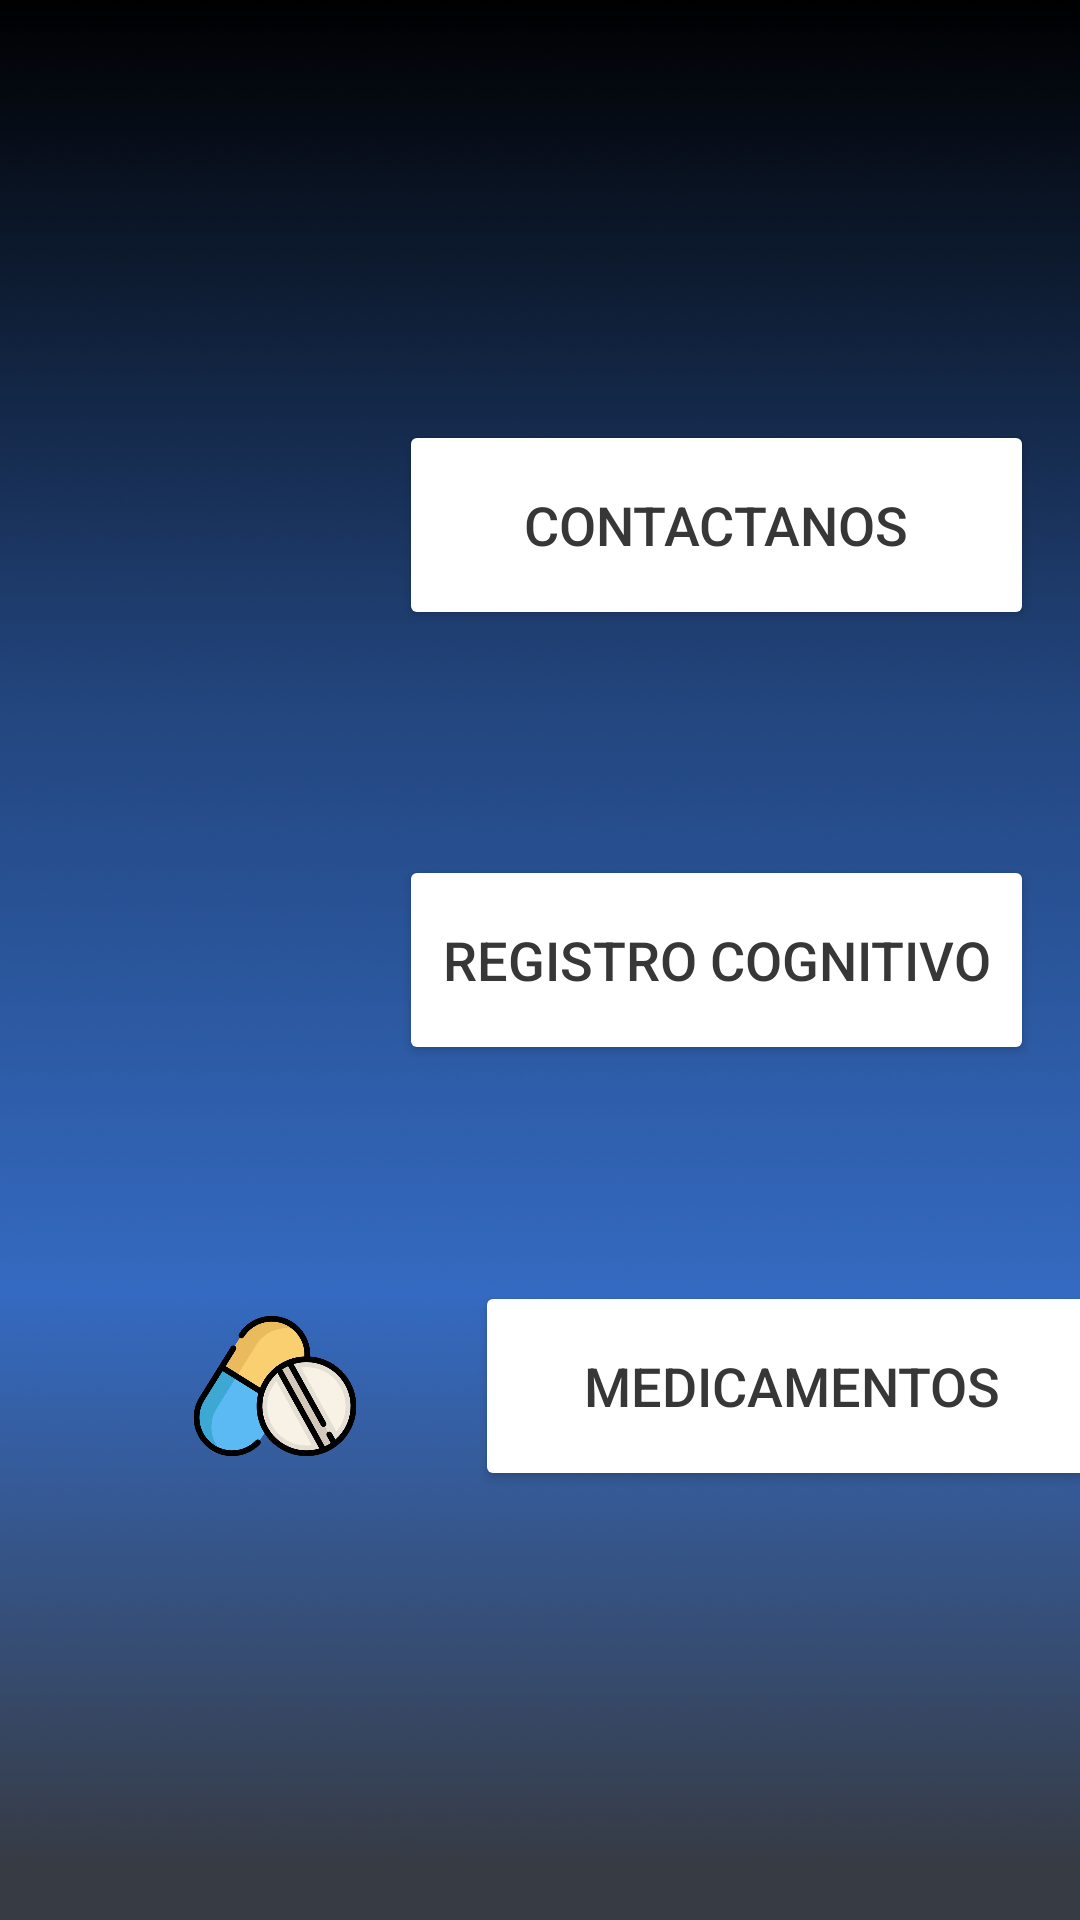

Where to tap for icons on this 1080*1920 app screen, as (x,y):
pastillas: (275,1386)
